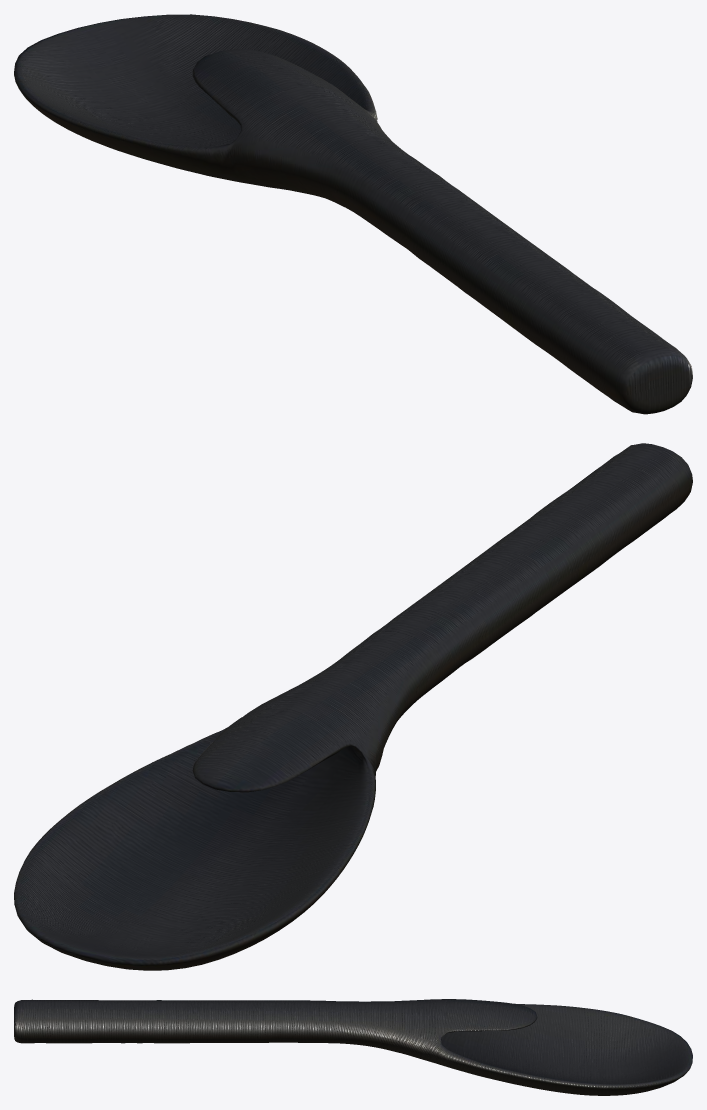
The model's file is 15_Uvula.glb.
3 views of the same model, one above another, from view 1: azimuth 30°, elevation 25°; view 2: azimuth 150°, elevation 25°; view 3: azimuth 270°, elevation 25° (orthographic). The views are drawn at different scales.
Parts seen in each view (by area): view 1: 15_Uvula; view 2: 15_Uvula; view 3: 15_Uvula.
Boxes of the visible parts, x1,y1,x2,y2 form: 15_Uvula: (14,14,692,414); 15_Uvula: (14,443,692,970); 15_Uvula: (14,999,692,1095).
Bounding box in the file's own units: 0.0375 × 0.0179 × 0.1391.
Materials: 1 (1 with a texture image).
